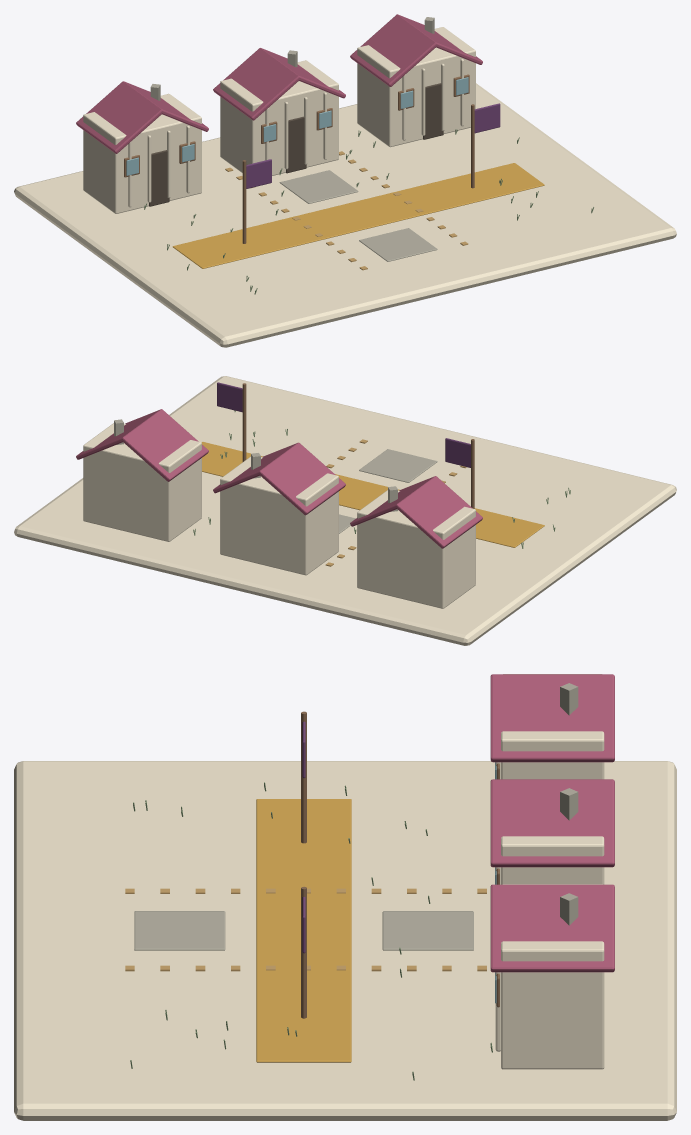
The model's file is emp_square-CQ-cp_xs.glb.
3 renders of one model, top to bottom at view 1: azimuth 30°, elevation 25°; view 2: azimuth 150°, elevation 25°; view 3: azimuth 270°, elevation 25°, orthographic. The views are drawn at different scales.
Visible parts, largest first — view 1: world_cream.036, world_Story secondary.011, world_rose.036, world_stone.036, world_darkwood.036, FX_banner_Story primary.011, world_sky.036, world_wood.036, FX_banner_wood.036, world_brass.036; view 2: world_cream.036, world_rose.036, world_Story secondary.011, world_stone.036, FX_banner_Story primary.011, FX_banner_wood.036; view 3: world_cream.036, world_rose.036, world_Story secondary.011, world_stone.036, FX_banner_wood.036, world_brass.036.
Part boxes in pixels (bbox=[...]): world_cream.036: bbox=[14, 27, 676, 347]; world_Story secondary.011: bbox=[172, 163, 544, 268]; world_rose.036: bbox=[76, 14, 482, 153]; world_stone.036: bbox=[150, 17, 437, 261]; world_darkwood.036: bbox=[149, 83, 443, 206]; FX_banner_Story primary.011: bbox=[246, 103, 500, 188]; world_sky.036: bbox=[126, 77, 468, 175]; world_wood.036: bbox=[124, 74, 469, 177]; FX_banner_wood.036: bbox=[242, 104, 474, 243]; world_brass.036: bbox=[225, 151, 468, 270]; world_cream.036: bbox=[14, 376, 676, 645]; world_rose.036: bbox=[76, 409, 482, 548]; world_Story secondary.011: bbox=[201, 442, 544, 547]; world_stone.036: bbox=[114, 419, 437, 533]; FX_banner_Story primary.011: bbox=[217, 382, 470, 467]; FX_banner_wood.036: bbox=[242, 383, 474, 508]; world_cream.036: bbox=[14, 674, 676, 1120]; world_rose.036: bbox=[490, 674, 614, 972]; world_Story secondary.011: bbox=[256, 799, 351, 1062]; world_stone.036: bbox=[134, 683, 578, 950]; FX_banner_wood.036: bbox=[301, 711, 306, 1018]; world_brass.036: bbox=[125, 888, 486, 971].
Size of the model in its own units: 20 by 4.56 by 16.
